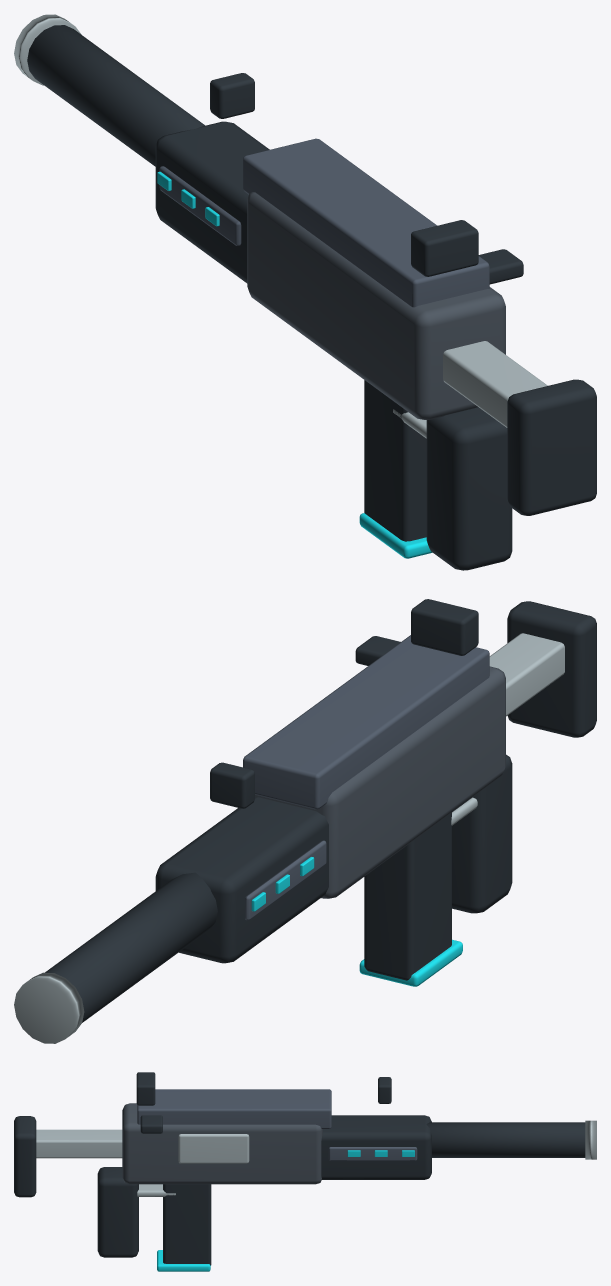
The model's file is spectre.glb.
The picture shows the model from 3 angles, top to bottom: view 1: azimuth 30°, elevation 25°; view 2: azimuth 150°, elevation 25°; view 3: azimuth 270°, elevation 25°; orthographic projection. The views are drawn at different scales.
Parts seen in each view (by area): view 1: Spectre receiver, Upper receiver, Pistol grip, Stock pad, Suppressor, Forward handguard, Angled magazine, Collapsible stock rail, Rear sight, Front sight, Side vent panel, Muzzle ring (+2 smaller); view 2: Spectre receiver, Upper receiver, Forward handguard, Angled magazine, Suppressor, Stock pad, Pistol grip, Muzzle ring, Collapsible stock rail, Rear sight, Front sight, Side vent panel (+2 smaller); view 3: Spectre receiver, Upper receiver, Forward handguard, Suppressor, Angled magazine, Pistol grip, Collapsible stock rail, Side ejection plate, Stock pad, Side vent panel.001, Rear sight, Magazine floor (+4 smaller).
Boxes of the visible parts, x1,y1,x2,y2 form: Spectre receiver: (247,192,505,419); Upper receiver: (243,138,489,307); Pistol grip: (426,407,512,570); Stock pad: (507,379,596,515); Suppressor: (27,25,204,166); Forward handguard: (155,121,269,283); Angled magazine: (364,380,426,541); Collapsible stock rail: (443,341,547,427); Rear sight: (411,220,478,276); Front sight: (210,73,254,118); Side vent panel: (159,166,241,245); Muzzle ring: (14,14,81,85); Spectre receiver: (255,666,505,898); Upper receiver: (243,635,489,809); Forward handguard: (155,797,328,963); Angled magazine: (364,813,451,980); Suppressor: (45,872,217,1022); Stock pad: (507,601,596,737); Pistol grip: (452,754,512,913); Muzzle ring: (14,972,84,1043); Collapsible stock rail: (489,633,564,716); Rear sight: (411,599,478,655); Front sight: (210,762,254,808); Side vent panel: (245,840,326,920); Spectre receiver: (122,1103,322,1184); Upper receiver: (137,1089,331,1128); Forward handguard: (321,1115,431,1179); Suppressor: (426,1122,585,1157); Angled magazine: (163,1184,211,1265); Pistol grip: (97,1167,138,1257); Collapsible stock rail: (36,1129,122,1158); Side ejection plate: (178,1134,249,1163); Stock pad: (14,1116,36,1197); Side vent panel.001: (328,1147,417,1160); Rear sight: (136,1072,155,1105); Magazine floor: (157,1250,210,1271).
Size of the model in its own units: 0.1375 by 0.348 by 0.989.
